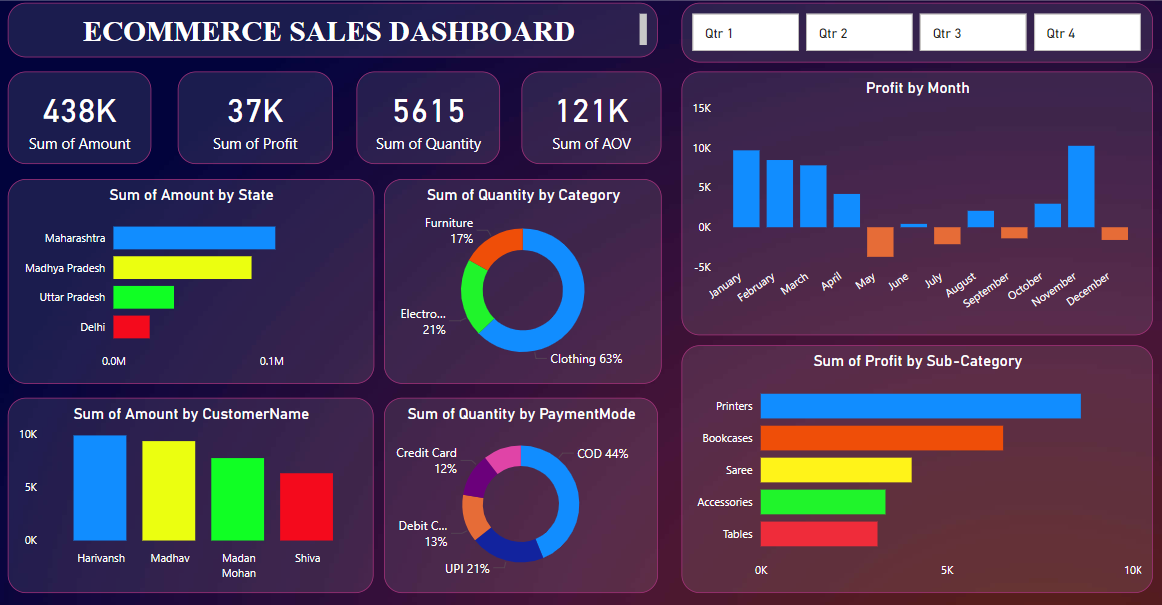

Layout of this report page (visuals, bound fields, positions):
{"tool":"powerbi","page":{"name":"Page 1","canvas":[1280,720],"ordinal":0},"visuals":[{"type":"textbox","box":[9.6,26.1,713.6,60.4],"z":0},{"type":"columnChart","title":"Profit by Month","fields":{"Category":["Orders.Order Date.Variation.Date Hierarchy.Month"],"Y":["Details.Profit"]},"box":[749.2,101.5,517.3,289.5],"z":1000},{"type":"barChart","fields":{"Category":["Details.Sub-Category"],"Y":["Details.Profit"]},"box":[749.2,402.1,517.3,271.7],"z":2000},{"type":"donutChart","fields":{"Category":["Details.Category"],"Y":["Details.Quantity"]},"box":[422.6,219.6,304.6,225],"z":3000},{"type":"donutChart","fields":{"Y":["Details.Quantity"],"Category":["Details.PaymentMode"]},"box":[422.6,459.7,300.5,214.1],"z":4000},{"type":"card","fields":{"Values":["Details.Amount"]},"box":[9.6,101.5,157.8,101.5],"z":5000},{"type":"card","fields":{"Values":["Details.Quantity"]},"box":[392.5,101.5,157.8,101.5],"z":6000},{"type":"card","fields":{"Values":["Details.Profit"]},"box":[196.2,101.5,170.2,101.5],"z":7000},{"type":"card","fields":{"Values":["Details.AOV"]},"box":[573.6,101.5,153.7,101.5],"z":8000},{"type":"barChart","fields":{"Y":["Details.Amount"],"Category":["Orders.State"]},"box":[9.6,219.6,402.1,225],"z":9000},{"type":"columnChart","fields":{"Category":["Orders.CustomerName"],"Y":["Details.Amount"]},"box":[9.7,459.7,401.7,214.7],"z":10000},{"type":"advancedSlicerVisual","fields":{"Values":["Orders.Order Date.Variation.Date Hierarchy.Quarter"]},"box":[749.2,26.1,517.3,65.9],"z":11000}]}

Visuals, with their boxes on the page's 1280x720 design canvas (x1, y1, x2, y2). These are canvas units, not pixel positions in the 1162x605 screenshot, which may show the page scaled, cropped or inside an application window:
textbox: [x1=10, y1=26, x2=723, y2=86]
"Profit by Month" columnChart: [x1=749, y1=102, x2=1266, y2=391]
barChart - Details.Sub-Category x Details.Profit: [x1=749, y1=402, x2=1266, y2=674]
donutChart - Details.Category x Details.Quantity: [x1=423, y1=220, x2=727, y2=445]
donutChart - Details.Quantity x Details.PaymentMode: [x1=423, y1=460, x2=723, y2=674]
card - Details.Amount: [x1=10, y1=102, x2=167, y2=203]
card - Details.Quantity: [x1=392, y1=102, x2=550, y2=203]
card - Details.Profit: [x1=196, y1=102, x2=366, y2=203]
card - Details.AOV: [x1=574, y1=102, x2=727, y2=203]
barChart - Details.Amount x Orders.State: [x1=10, y1=220, x2=412, y2=445]
columnChart - Orders.CustomerName x Details.Amount: [x1=10, y1=460, x2=411, y2=674]
advancedSlicerVisual - Orders.Order Date.Variation.Date Hierarchy.Quarter: [x1=749, y1=26, x2=1266, y2=92]
